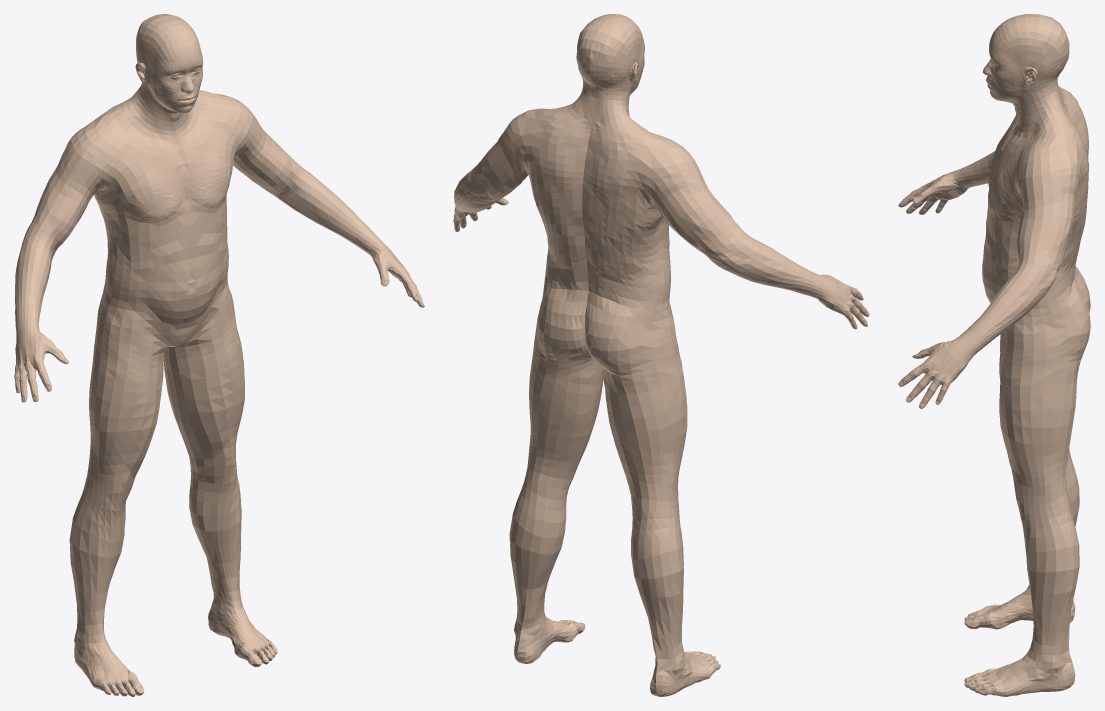
The model's file is male-adult-max-strong.glb.
3 renders of one model, left to right at view 1: azimuth 30°, elevation 25°; view 2: azimuth 150°, elevation 25°; view 3: azimuth 270°, elevation 25°, orthographic.
Visible parts, largest first — view 1: world; view 2: world; view 3: world.
Boxes of the visible parts, bbox=[...] form: world: bbox=[14, 14, 424, 696]; world: bbox=[453, 14, 869, 696]; world: bbox=[898, 14, 1090, 696].
Bounding box in the file's own units: 1.28 × 1.96 × 0.5335.
